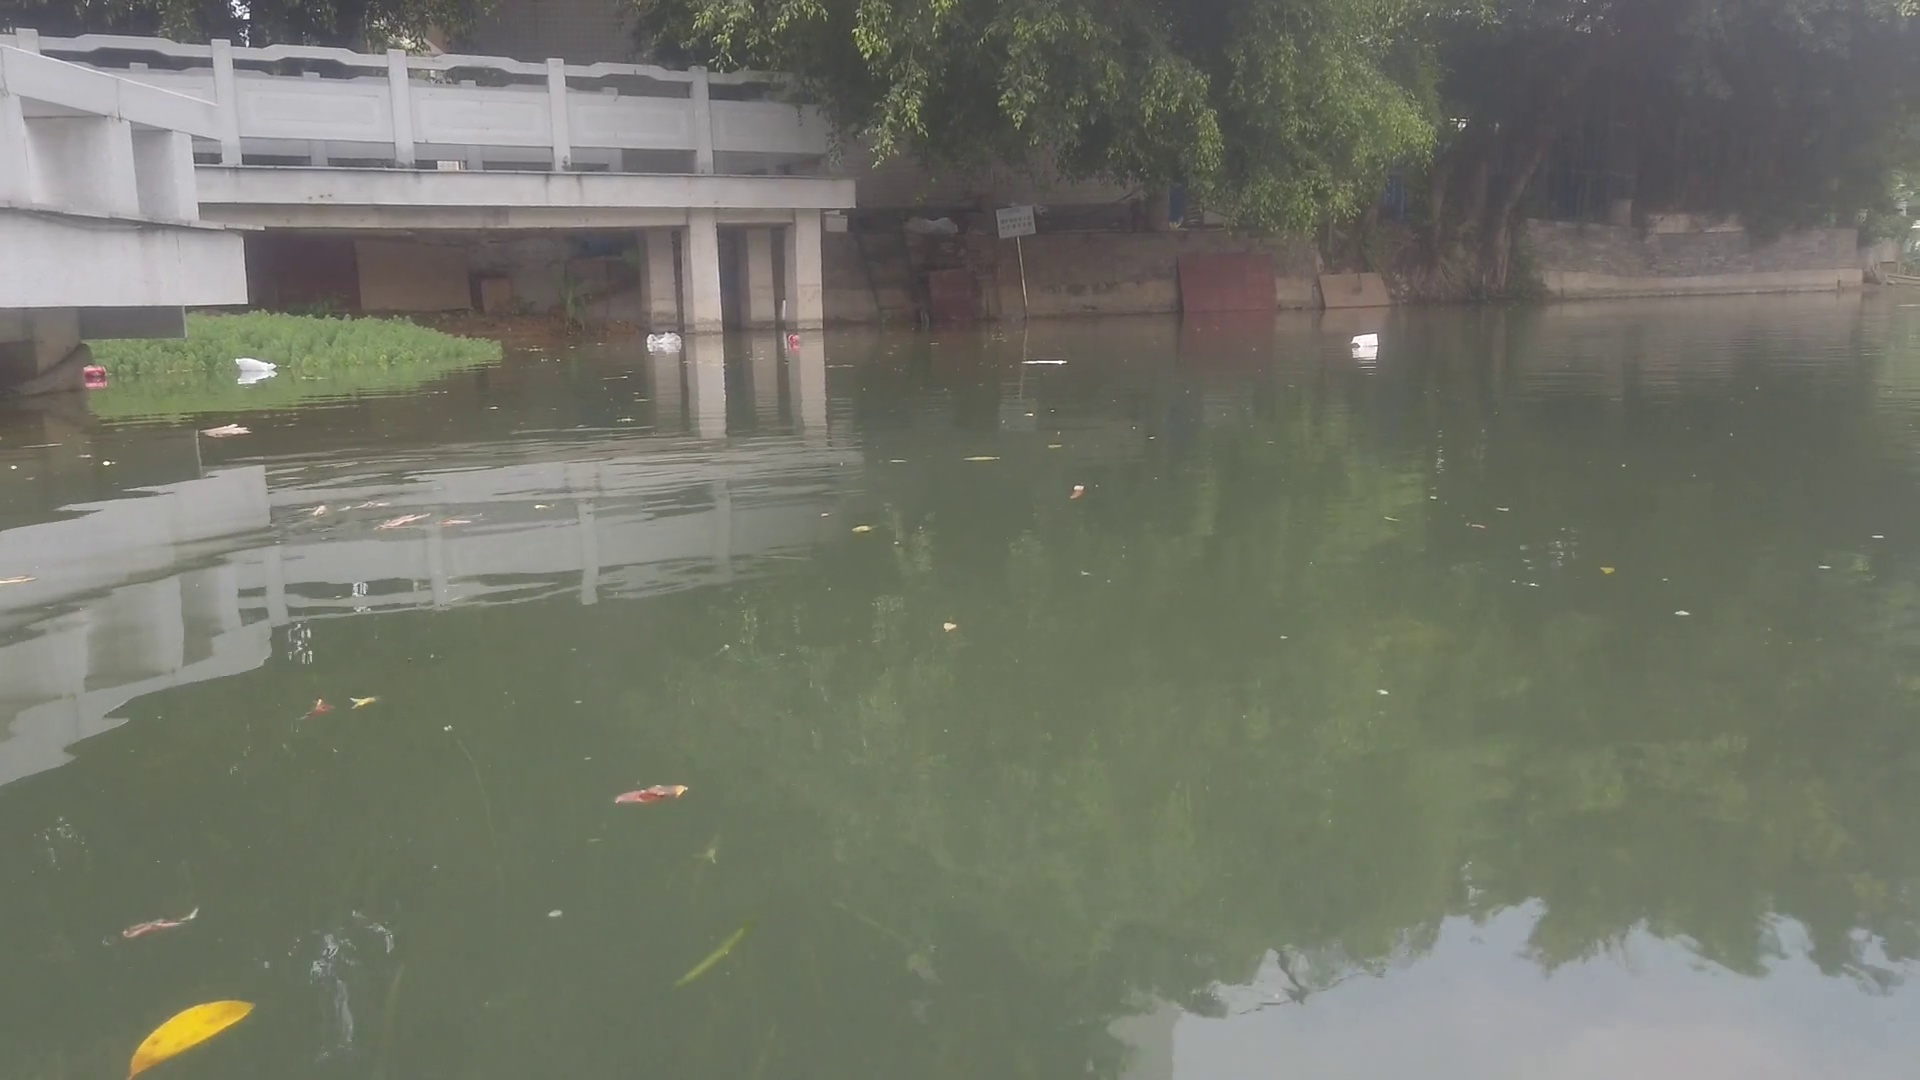bottle: (78, 363, 109, 382), (782, 332, 804, 345)
carton: (1352, 328, 1379, 344)
paper: (200, 419, 251, 444), (1021, 356, 1069, 365)
plastic: (644, 332, 688, 349), (236, 355, 274, 371)
